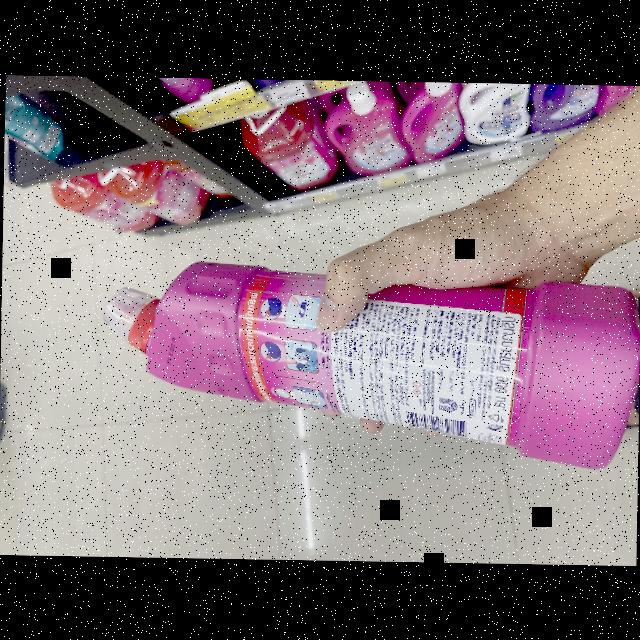chemical_plastic_bottle: (93, 252, 640, 476)
